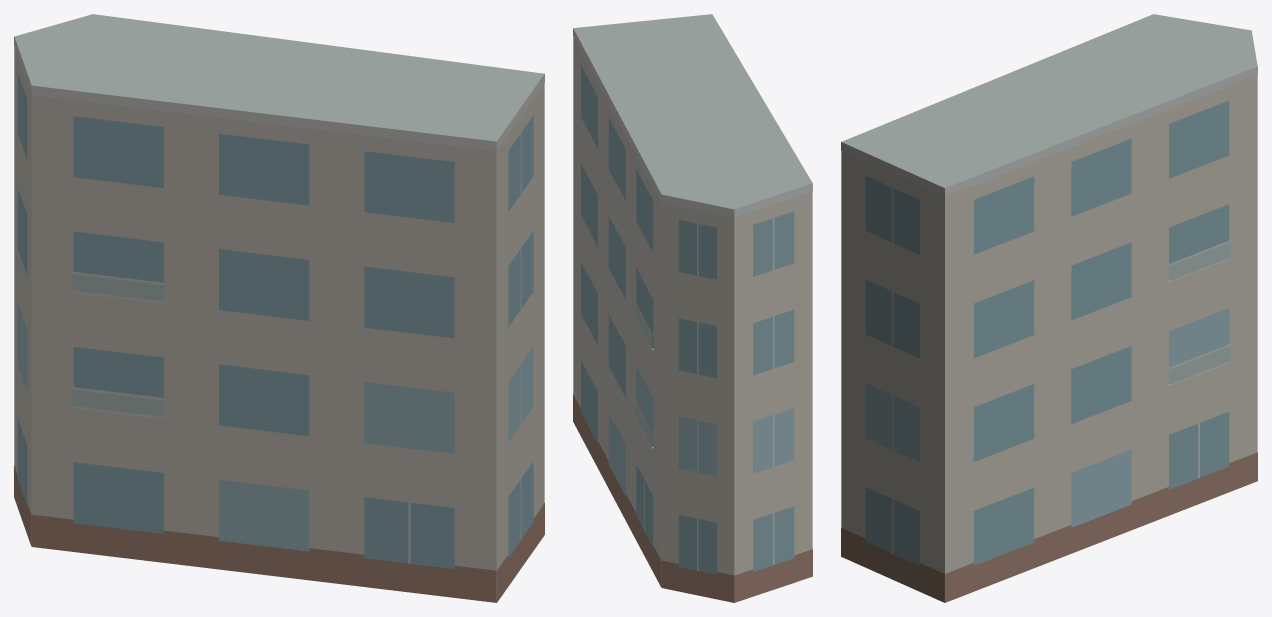
File: survey-upis-32501986.glb
3 views of the same model, side by side, from view 1: azimuth 30°, elevation 25°; view 2: azimuth 150°, elevation 25°; view 3: azimuth 270°, elevation 25° (orthographic). The views are drawn at different scales.
Visible parts, largest first — view 1: survey-upis-32501986.tmp; view 2: survey-upis-32501986.tmp; view 3: survey-upis-32501986.tmp.
Part boxes in pixels (x1,y1,x2,y2): survey-upis-32501986.tmp: (14, 14, 544, 602); survey-upis-32501986.tmp: (573, 14, 812, 602); survey-upis-32501986.tmp: (841, 14, 1257, 602).
Bounding box in the file's own units: 10.63 × 11.8 × 10.75.
